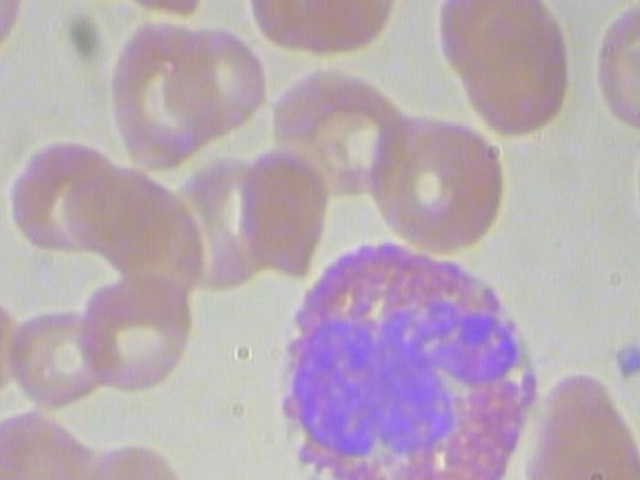Platelets: (607, 333, 640, 385)
RBC: (101, 18, 225, 179), (380, 109, 513, 253), (447, 0, 580, 139), (161, 7, 272, 151), (81, 275, 205, 403), (576, 0, 640, 137)
WBC: (268, 226, 552, 480)
